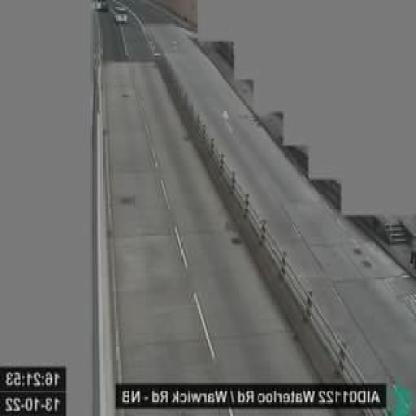Car: (114, 5, 128, 24)
